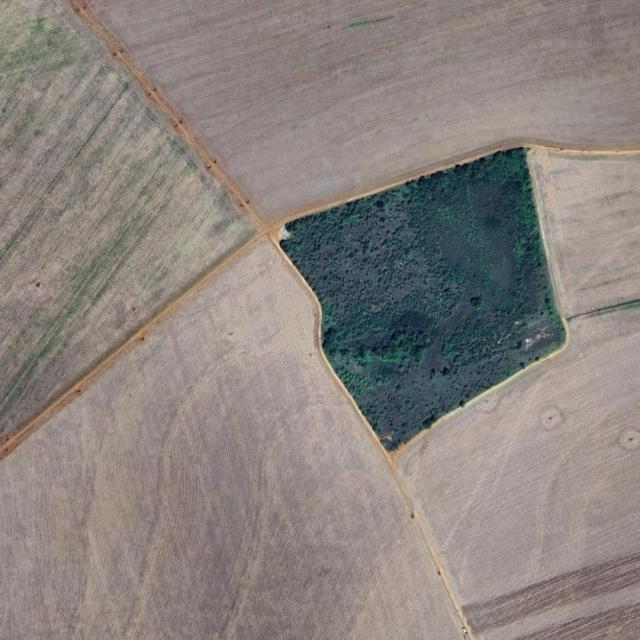noVegetation: (0, 240, 461, 638), (88, 0, 640, 218), (398, 149, 640, 639), (0, 2, 255, 438)
vegetation: (281, 148, 564, 447)
